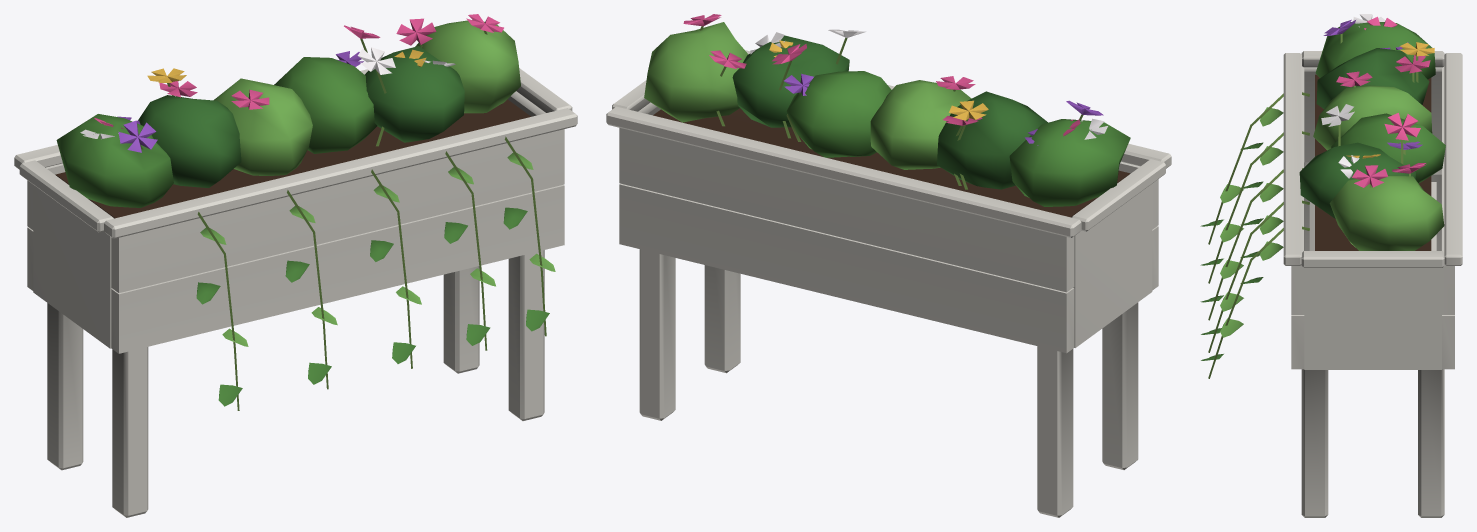
File: flowerBox.glb
3 renders of one model, left to right at view 1: azimuth 30°, elevation 25°; view 2: azimuth 150°, elevation 25°; view 3: azimuth 270°, elevation 25°, orthographic. The views are drawn at different scales.
Parts seen in each view (by area): view 1: flowerBox; view 2: flowerBox; view 3: flowerBox.
Part boxes in pixels (x1,y1,x2,y2): flowerBox: (14, 14, 577, 517); flowerBox: (606, 14, 1171, 517); flowerBox: (1200, 14, 1462, 517).
Size of the model in its own units: 0.945 by 0.732 by 0.505.
